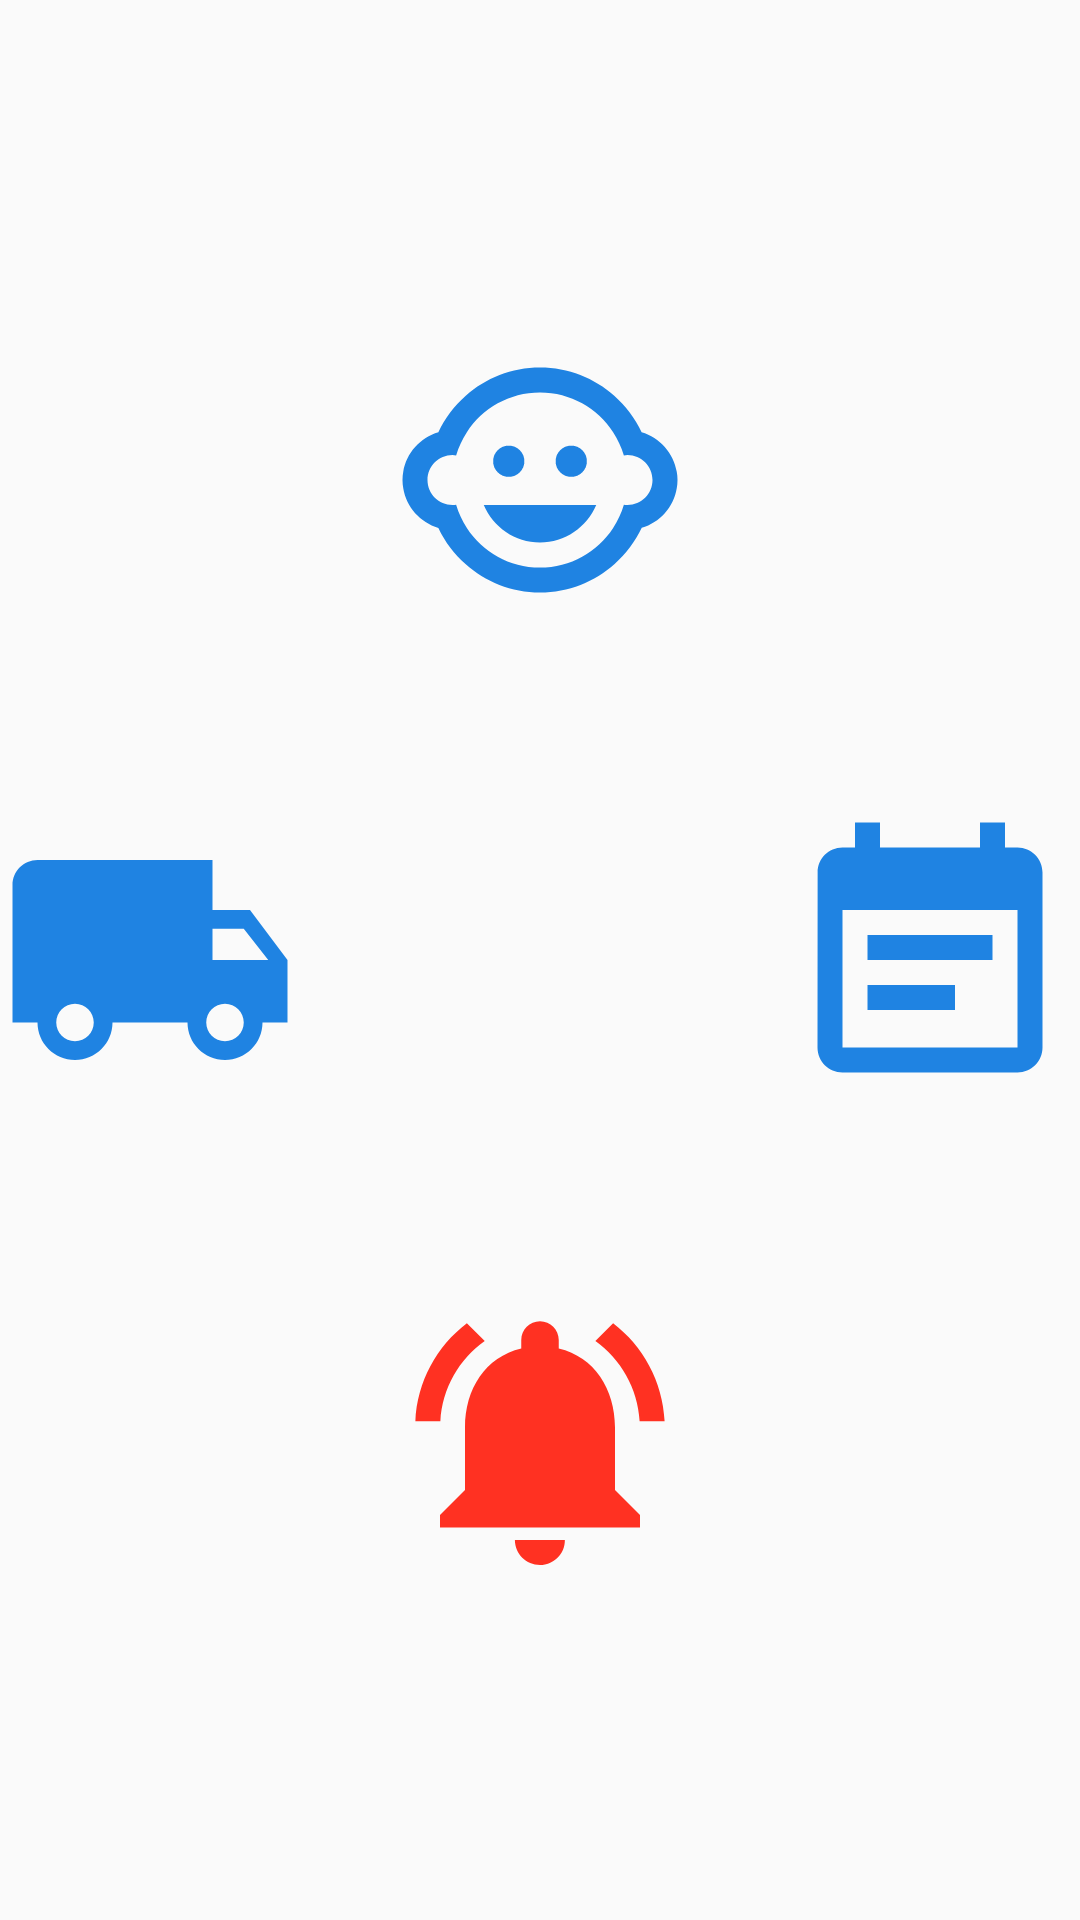

Screen size 1080×1920. Icon name, then its center in pixels as (x=x, y=y):
child care: (x=540, y=480)
notifications: (x=540, y=1443)
